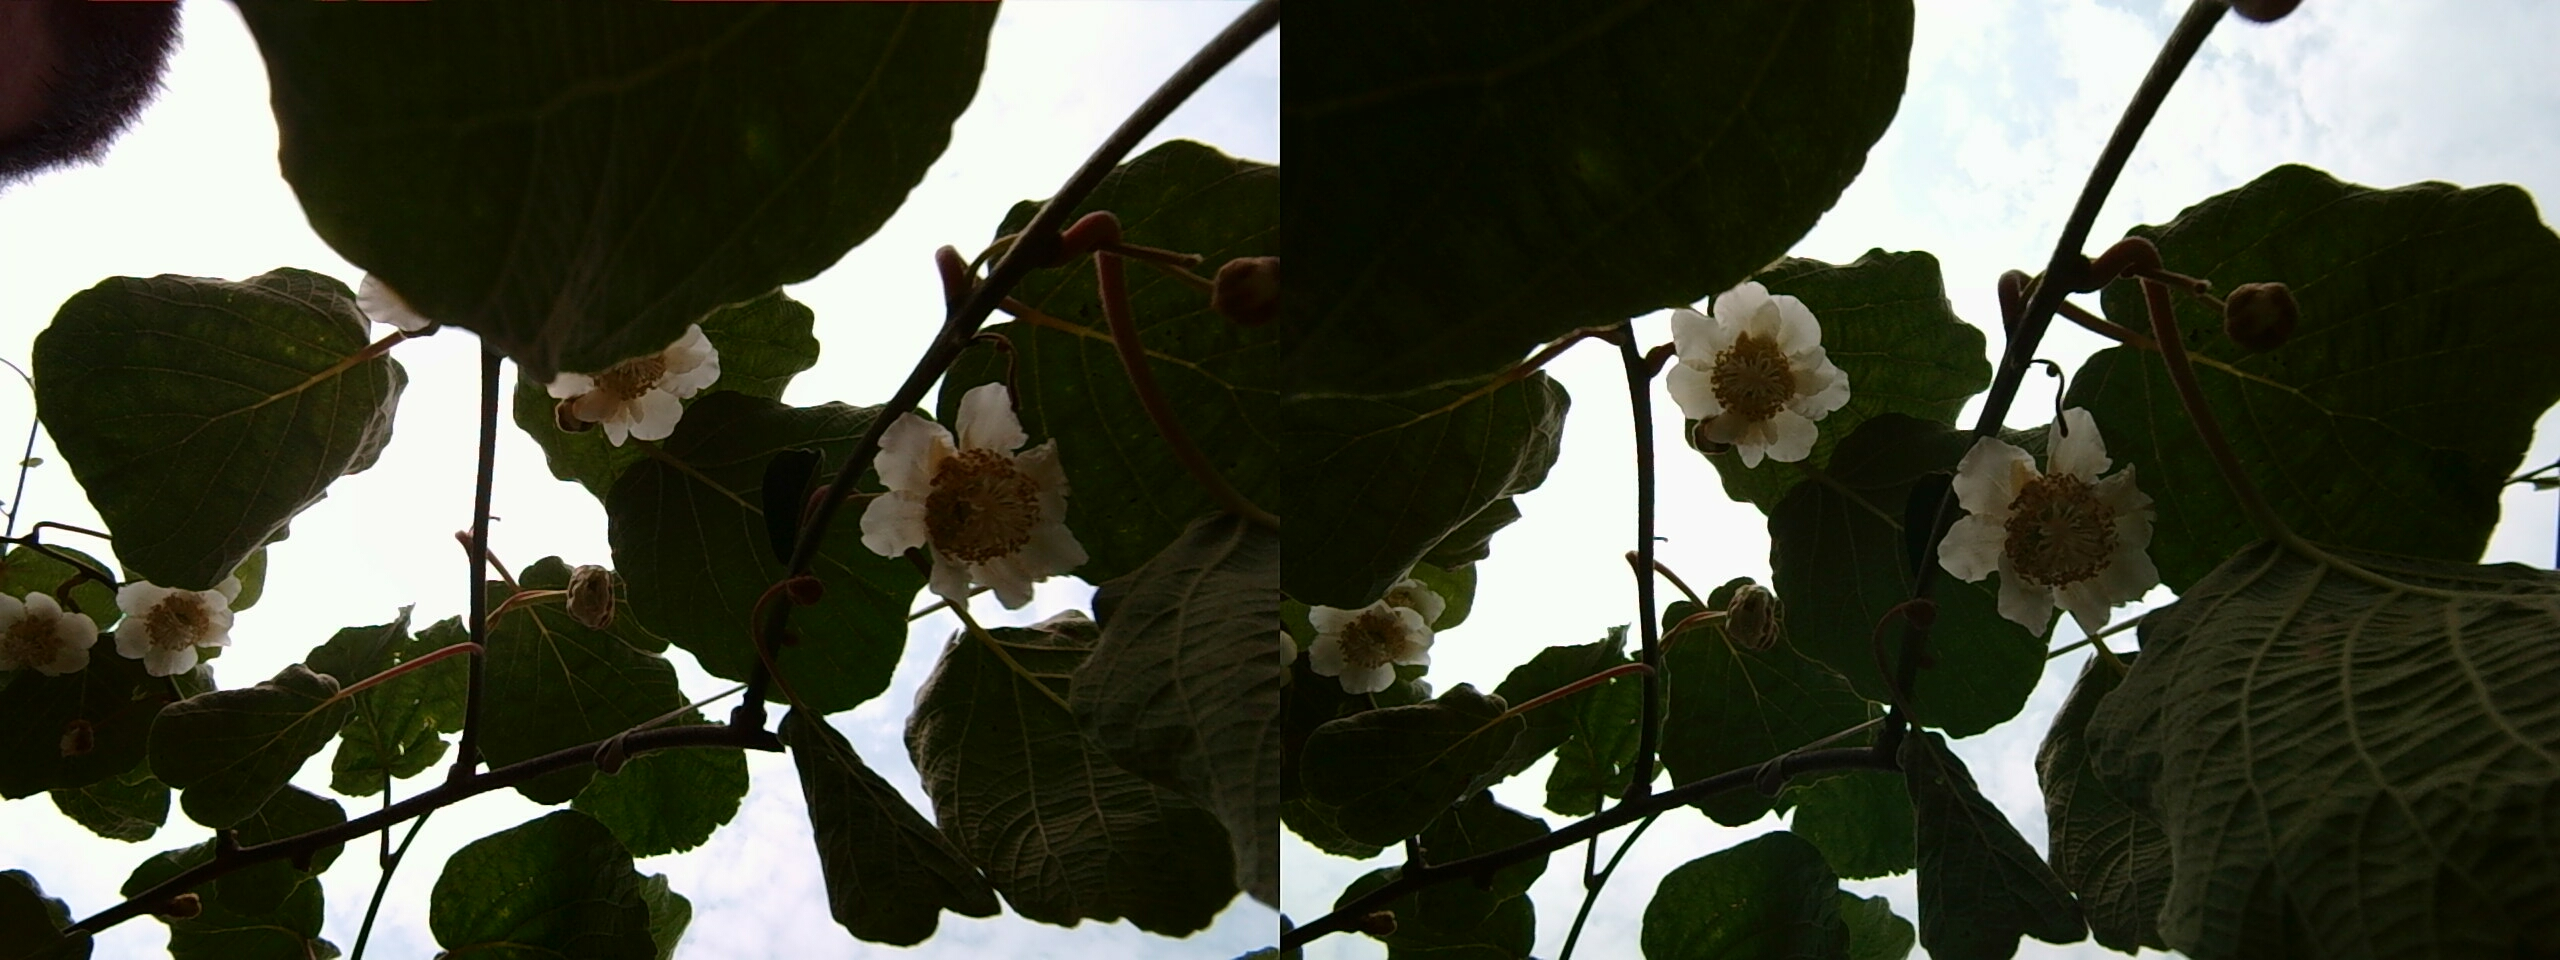flower: (864, 384, 1091, 614), (1936, 420, 2167, 635), (1652, 276, 1851, 465), (553, 327, 713, 438), (1301, 576, 1440, 699), (103, 573, 237, 673), (3, 591, 95, 674)
